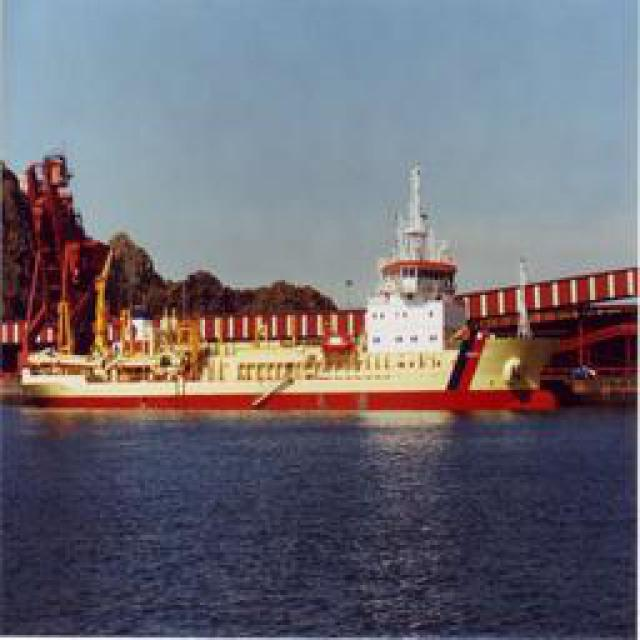Ship: (21, 154, 596, 427)
